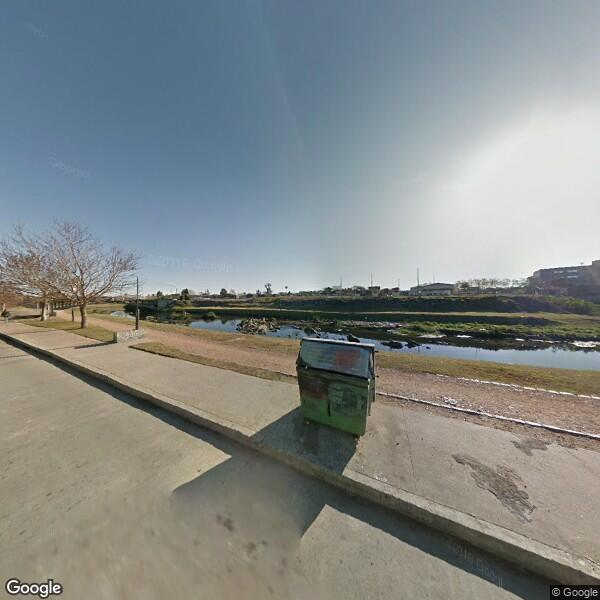Trash: (294, 336, 383, 439)
